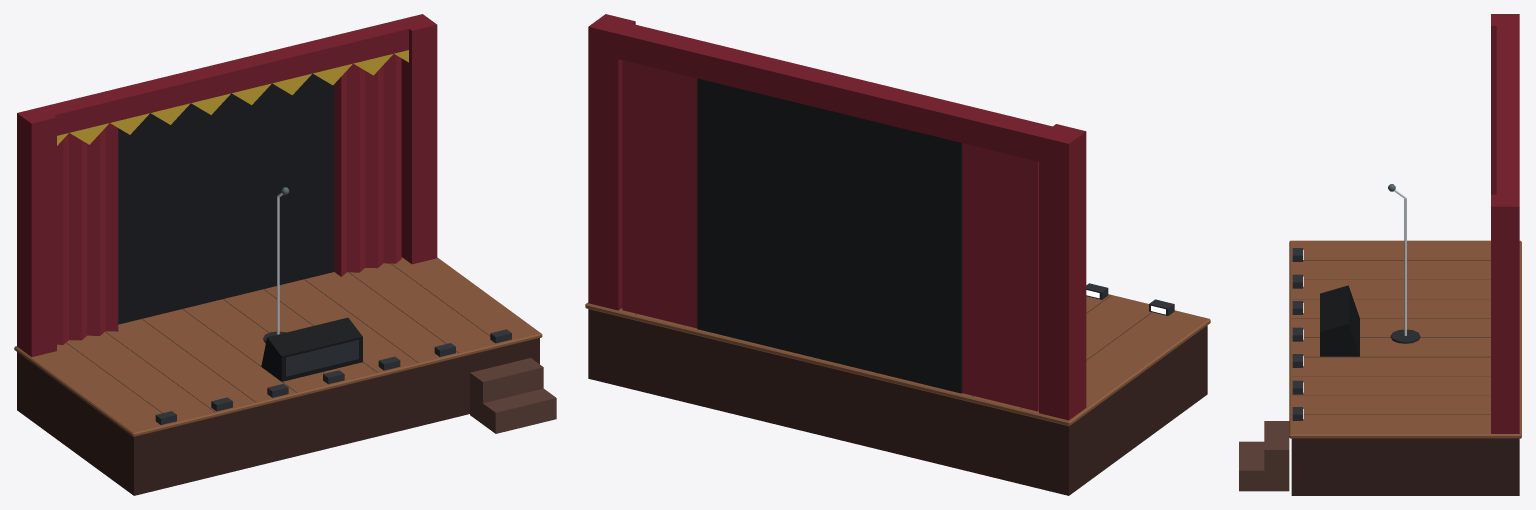
The model's file is stage.glb.
The picture shows the model from 3 angles, left to right: view 1: azimuth 30°, elevation 25°; view 2: azimuth 150°, elevation 25°; view 3: azimuth 270°, elevation 25°; orthographic projection. The views are drawn at different scales.
Visible parts, largest first — view 1: stage; view 2: stage; view 3: stage.
Boxes of the visible parts, left/top/right/bottom form: stage: left=14, top=14, right=556, bottom=495; stage: left=585, top=14, right=1210, bottom=495; stage: left=1239, top=14, right=1521, bottom=495.
Bounding box in the file's own units: 4.04 × 2.8 × 2.48.
